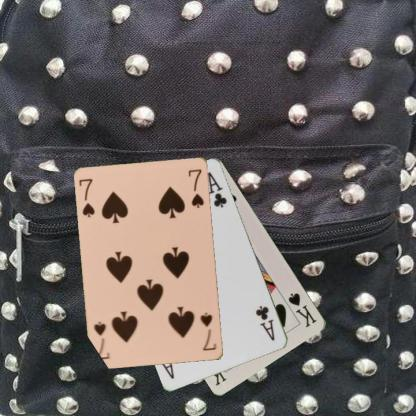7s: (198, 310, 218, 352), (77, 176, 96, 218)
Ac: (253, 303, 276, 342)
Ks: (286, 290, 318, 329)
